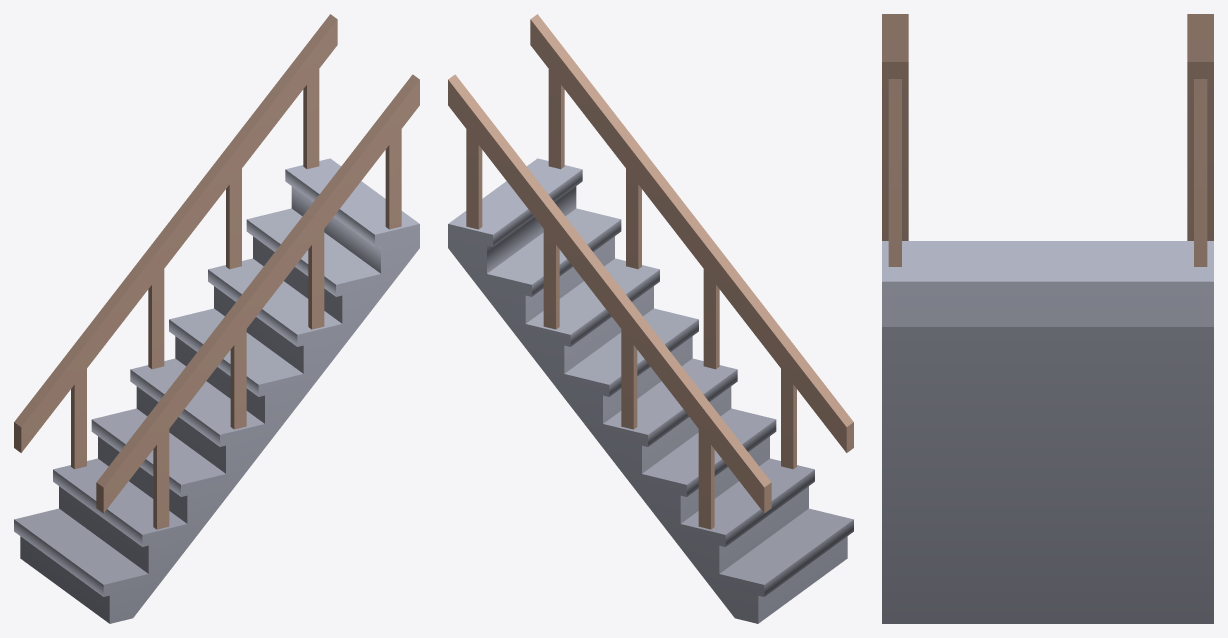
File: stairs-stone-handrail.glb
3 views of the same model, side by side, from view 1: azimuth 30°, elevation 25°; view 2: azimuth 150°, elevation 25°; view 3: azimuth 270°, elevation 25° (orthographic). The views are drawn at different scales.
Visible parts, largest first — view 1: stairs-stone-handrail; view 2: stairs-stone-handrail; view 3: stairs-stone-handrail.
Boxes of the visible parts, bbox=[...] form: stairs-stone-handrail: bbox=[14, 14, 419, 623]; stairs-stone-handrail: bbox=[448, 14, 853, 623]; stairs-stone-handrail: bbox=[882, 14, 1213, 623].
Size of the model in its own units: 1.02 by 1.45 by 0.5.
